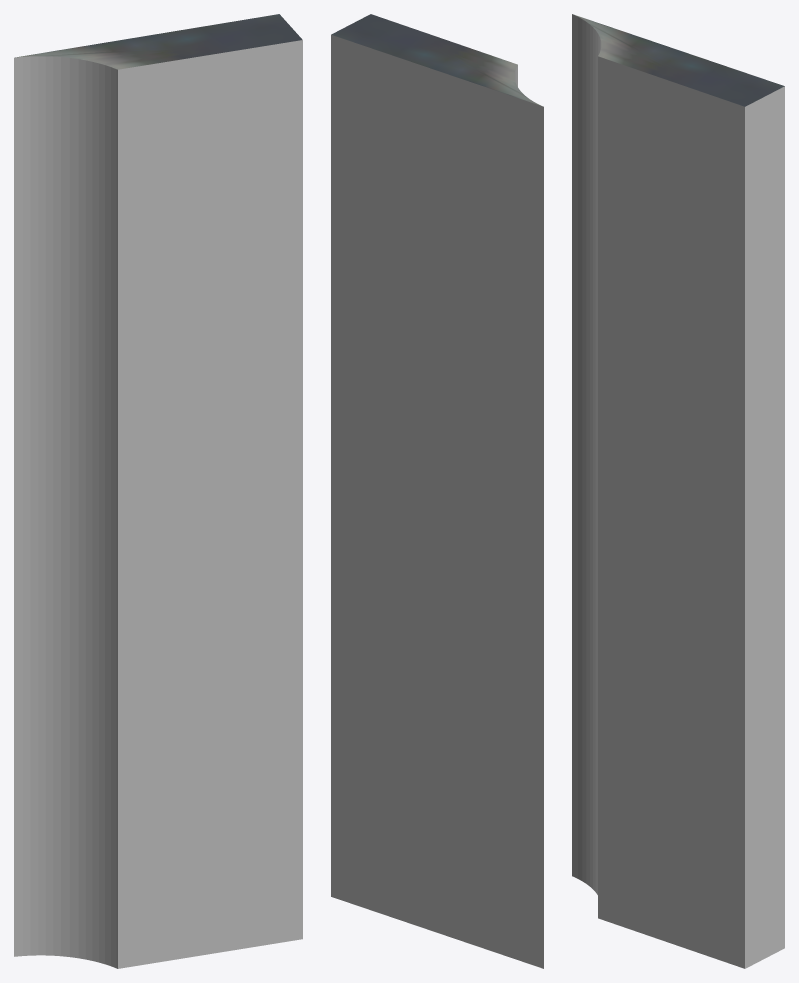
Rendered from DEBW_0010007THYc.gltf.
3 views of the same model, side by side, from view 1: azimuth 30°, elevation 25°; view 2: azimuth 150°, elevation 25°; view 3: azimuth 330°, elevation 25° (orthographic). The views are drawn at different scales.
Parts seen in each view (by area): view 1: Z_UP; view 2: Z_UP; view 3: Z_UP.
Part boxes in pixels (x1,y1,x2,y2): Z_UP: (14, 14, 302, 968); Z_UP: (331, 14, 543, 968); Z_UP: (572, 14, 784, 968).
Bounding box in the file's own units: 4.29 × 15.12 × 1.65.
2 materials, 1 textured.
